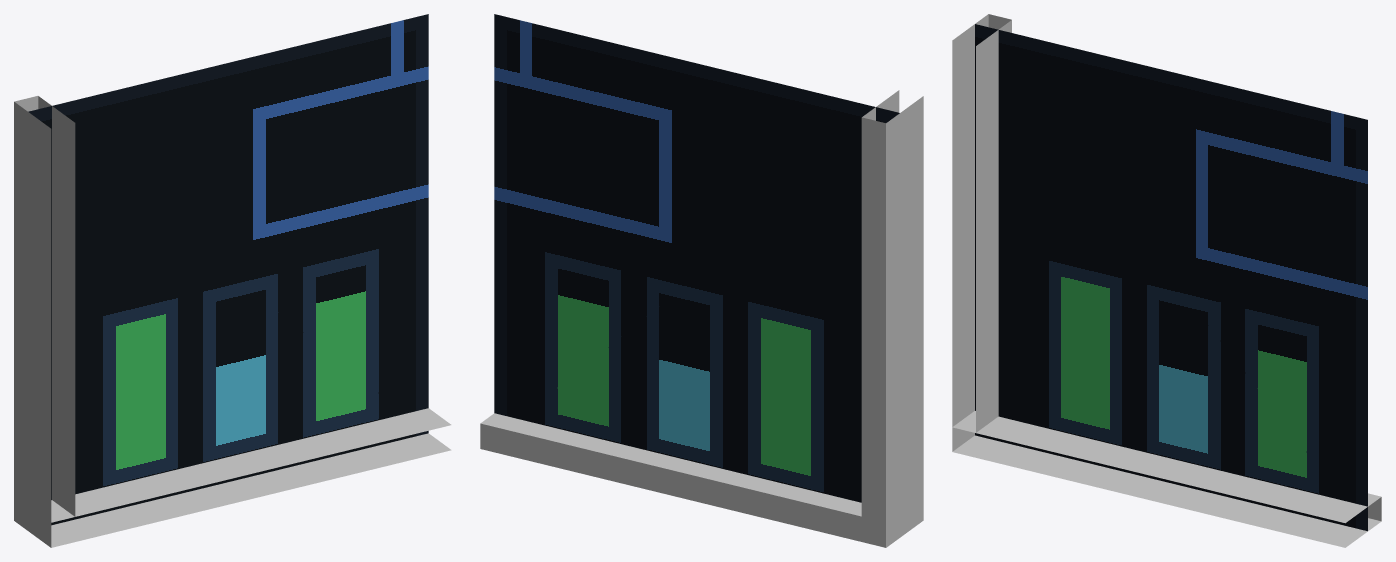
The model's file is wall_display_2x2_00.obj.
3 views of the same model, side by side, from view 1: azimuth 30°, elevation 25°; view 2: azimuth 150°, elevation 25°; view 3: azimuth 330°, elevation 25° (orthographic). The views are drawn at different scales.
Visible parts, largest first — view 1: wall_display_2x2_00; view 2: wall_display_2x2_00; view 3: wall_display_2x2_00.
Part boxes in pixels (bbox=[...]): wall_display_2x2_00: bbox=[14, 14, 451, 547]; wall_display_2x2_00: bbox=[480, 14, 923, 547]; wall_display_2x2_00: bbox=[952, 14, 1381, 547].
Bounding box in the file's own units: 1 × 1 × 0.16.
